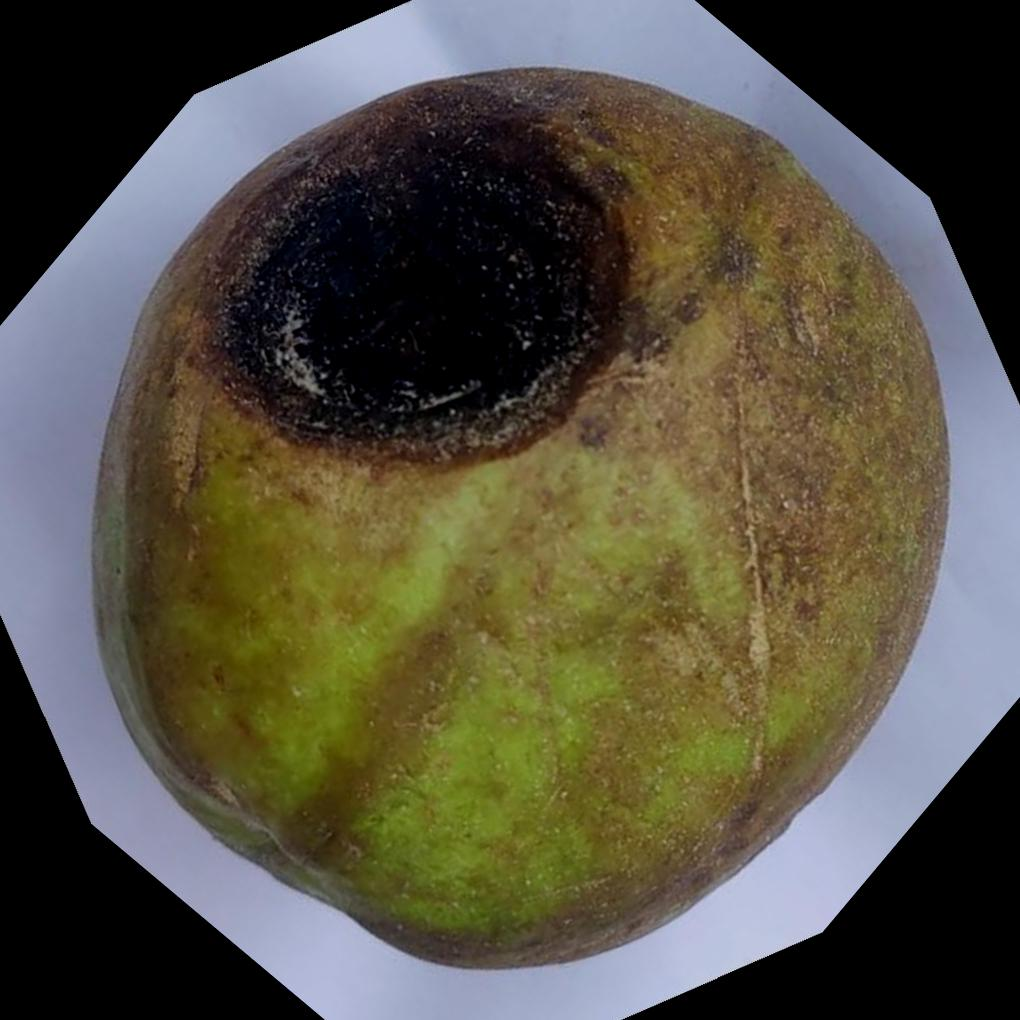FreshOrange: (92, 65, 956, 975)
